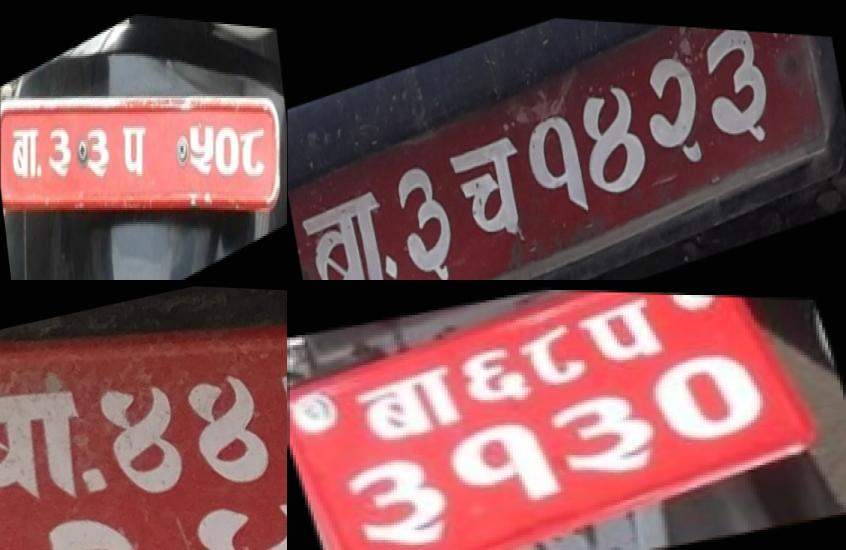0: (643, 339, 765, 443), (298, 186, 392, 280), (212, 113, 241, 179)
1: (438, 411, 561, 509), (637, 41, 709, 174)
3: (542, 380, 667, 489), (20, 476, 193, 550), (342, 452, 449, 547), (520, 100, 593, 226), (46, 119, 72, 183), (85, 118, 110, 178)
4: (170, 349, 284, 496), (86, 365, 195, 503), (176, 469, 287, 550)
5: (576, 71, 650, 200), (186, 109, 217, 179)
6: (454, 342, 529, 410)
8: (510, 319, 588, 389), (238, 113, 268, 181)
9: (446, 125, 532, 256)
ba: (0, 353, 105, 531), (353, 362, 467, 450), (697, 22, 773, 145), (392, 149, 459, 280), (9, 114, 43, 194)
pa: (573, 291, 668, 364), (119, 108, 149, 186)
